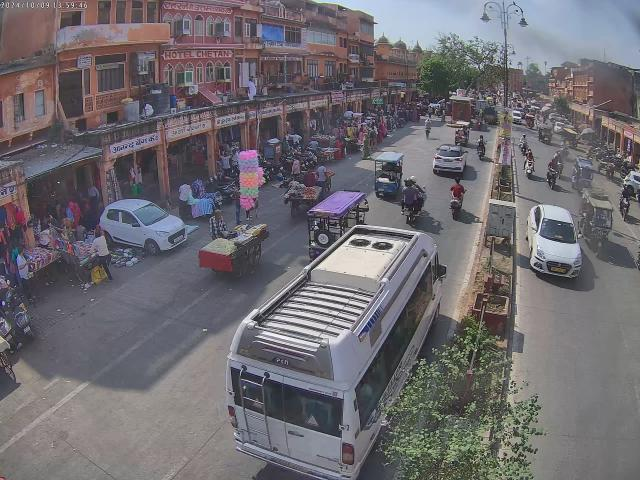auto: (306, 190, 368, 250), (578, 189, 616, 250), (372, 152, 404, 198), (454, 120, 471, 145), (537, 123, 553, 144)
bus: (223, 220, 447, 480)
car: (102, 201, 186, 253), (528, 204, 584, 280), (432, 143, 466, 175)
helmet: (404, 176, 418, 186), (551, 158, 556, 162), (529, 151, 532, 154)
license_plate: (552, 266, 566, 274)
motorbike-rider: (398, 176, 428, 224), (618, 184, 630, 218), (475, 136, 487, 160)
person: (92, 228, 116, 282), (16, 246, 34, 302), (176, 180, 194, 216), (128, 178, 145, 198)
scooty: (4, 284, 34, 334)
scooty-rider: (448, 177, 466, 219), (545, 158, 562, 188), (524, 148, 534, 180)
vendor: (198, 225, 278, 272), (284, 181, 318, 222)
